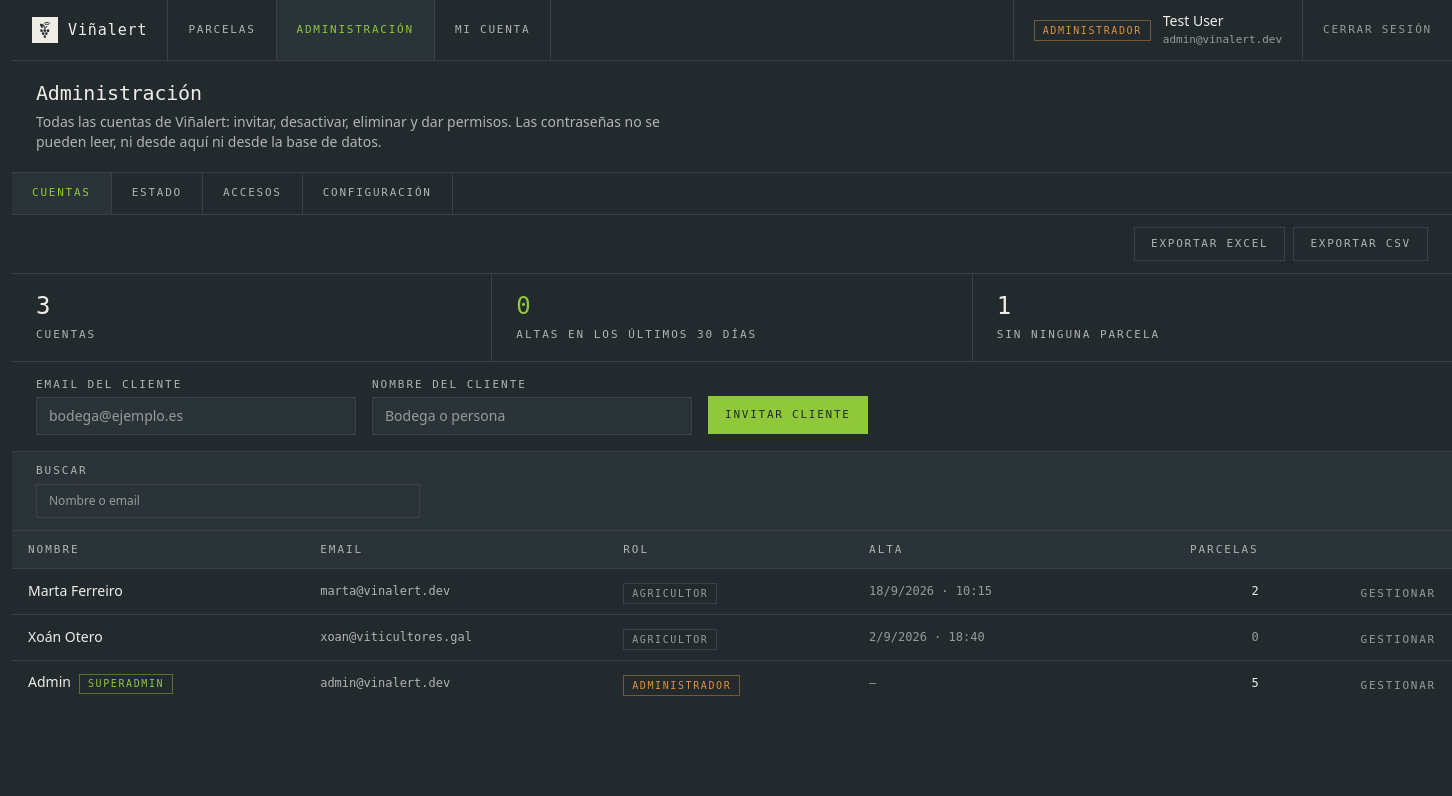
Test case: eliminar pide confirmacion y quita la cuenta del listado
This screenshot has width=1452, height=796.
Click the button "Gestionar" in the row of "Marta Ferreiro" at {"x": 1398, "y": 595}, box [1360,586,1436,603]
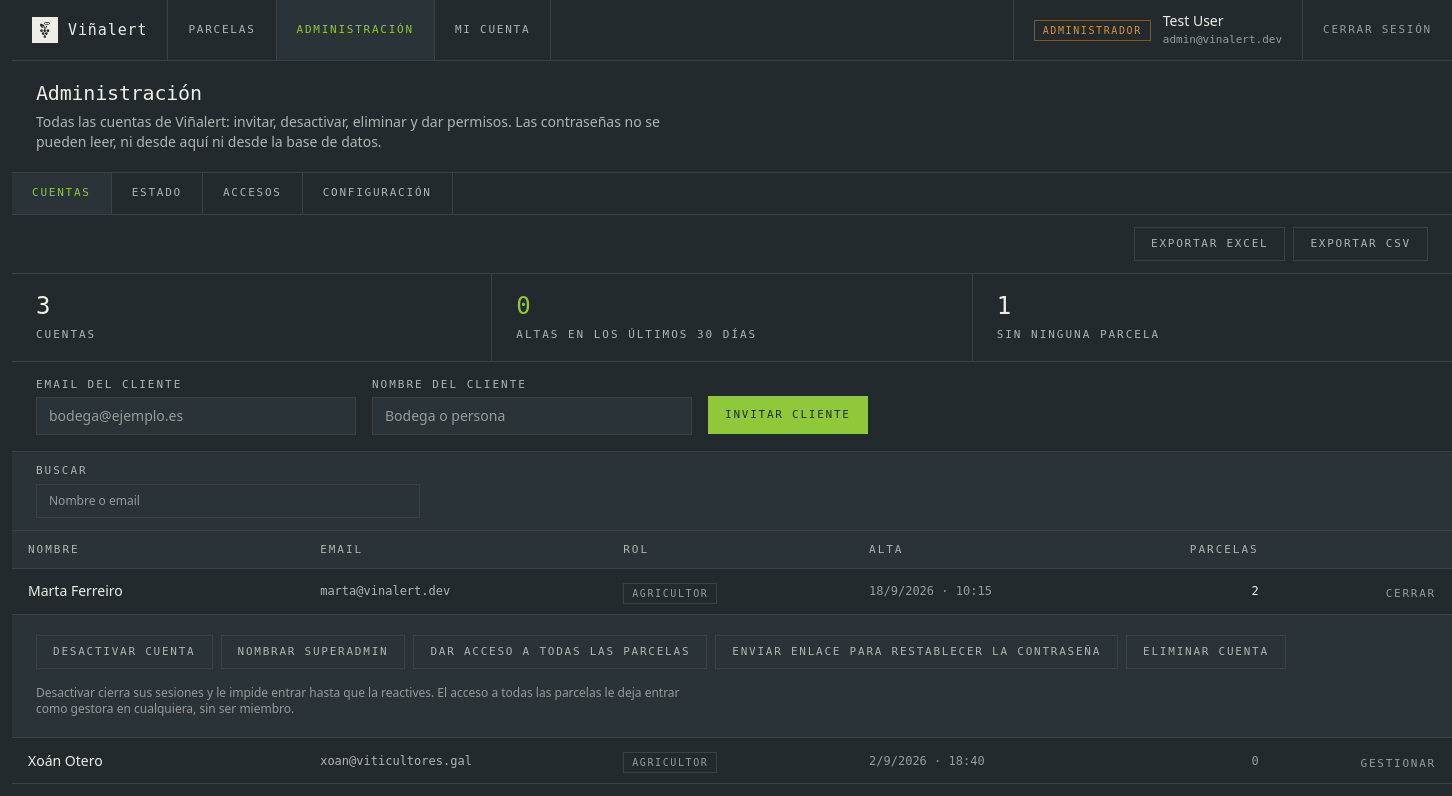
Click the button "Eliminar cuenta" at {"x": 1206, "y": 652}, box [1126,635,1286,669]
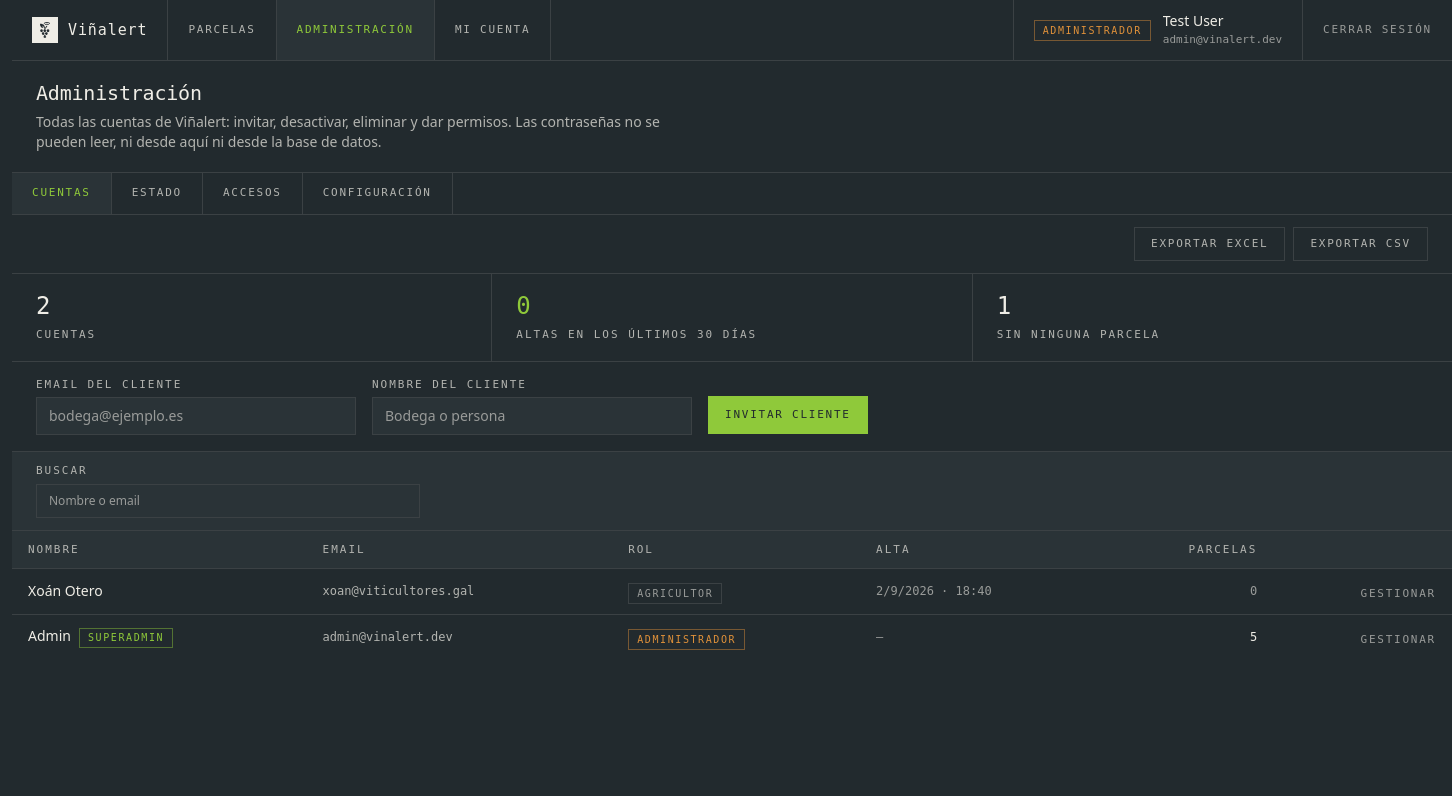
Expected: the text "marta@vinalert.dev" is gone
